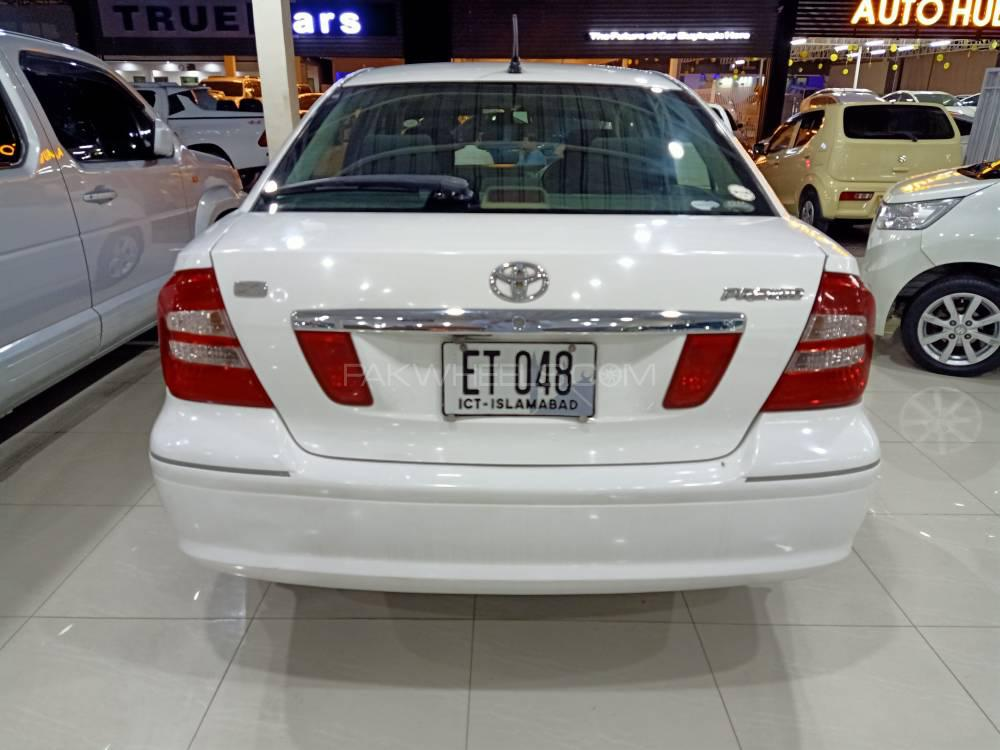license plate: (441, 343, 595, 418)
